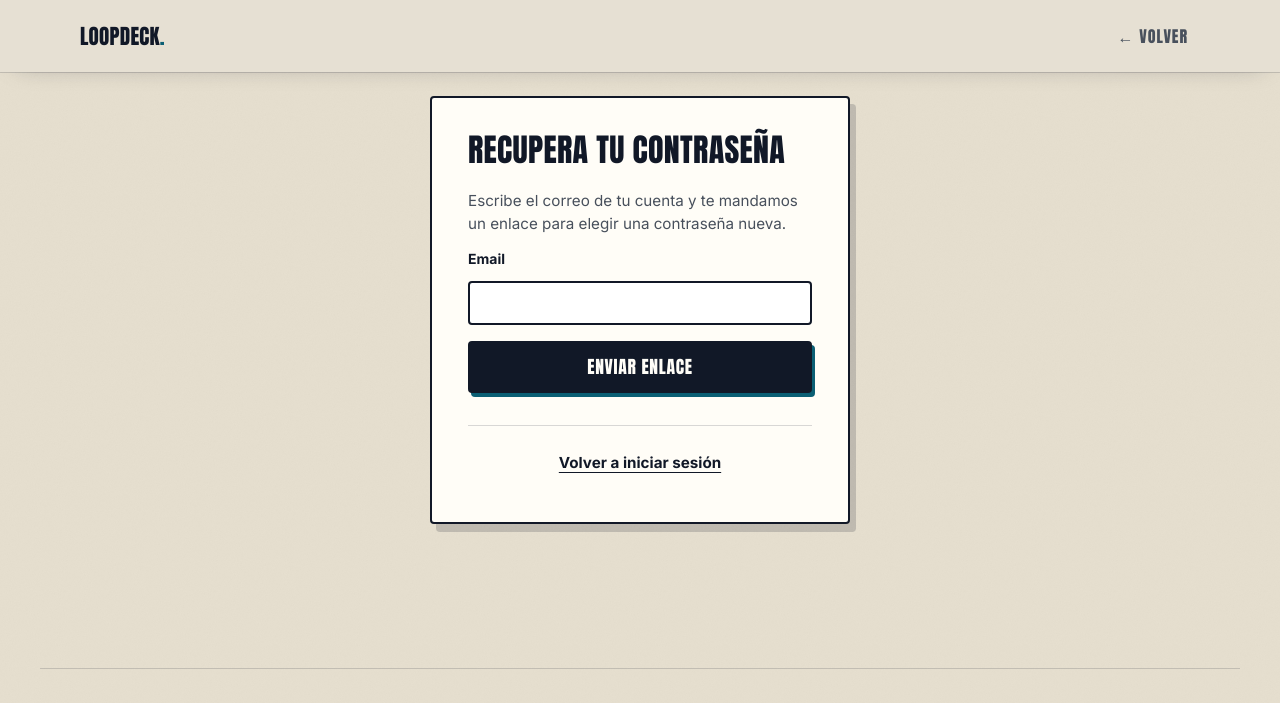
Scenario: ForgotPasswordPage › shows a generic error for any other failure and keeps the form
Step 1. Type "ana@example.com" into the field labelled "Email" → (640, 303), box [468,281,812,325]
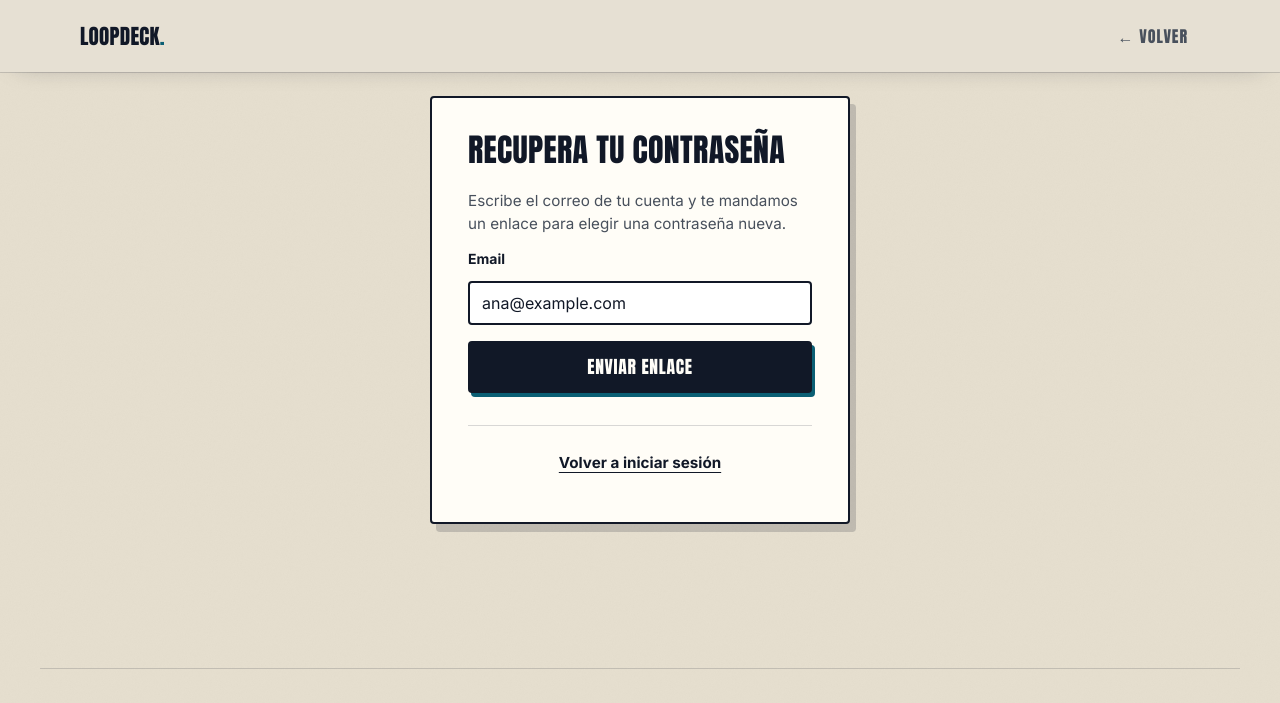
Step 2. Click the button "Enviar enlace" → click(640, 367), box [468,341,812,393]
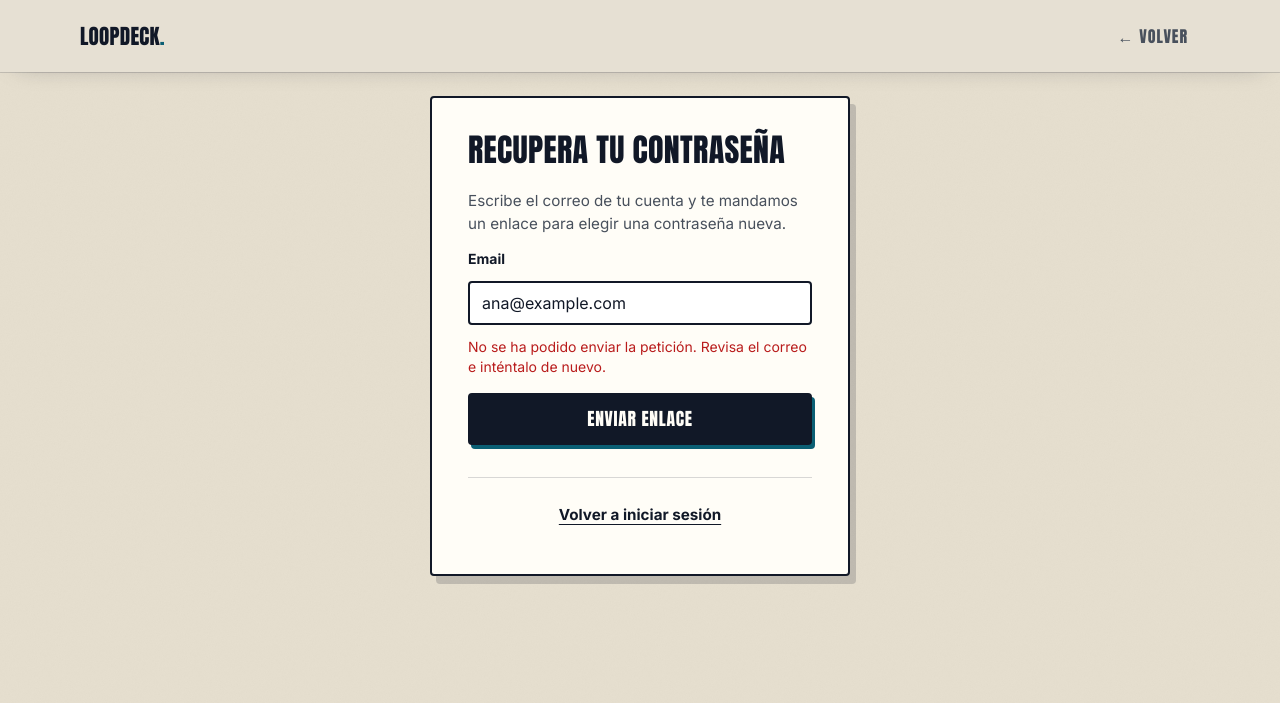
Expected: the button "Enviar enlace" is enabled, [468,393,812,445]
Now the message shows "No se ha podido enviar", box [468,338,807,375]
